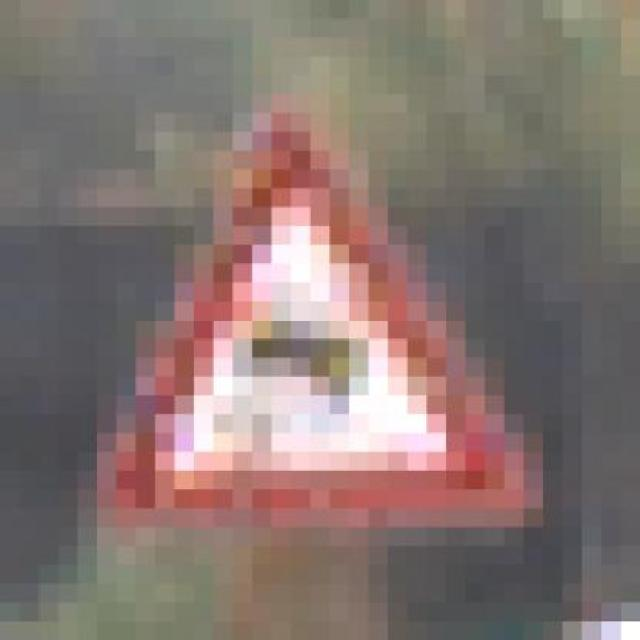Slippery Road Ahead: (78, 94, 562, 546)
